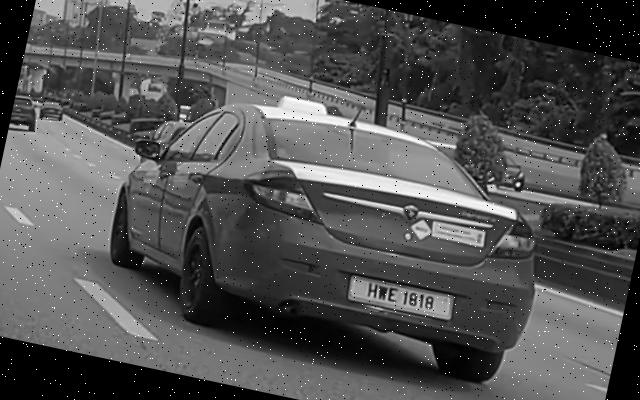License_Plate: (344, 272, 458, 324)
car: (95, 64, 566, 393)
